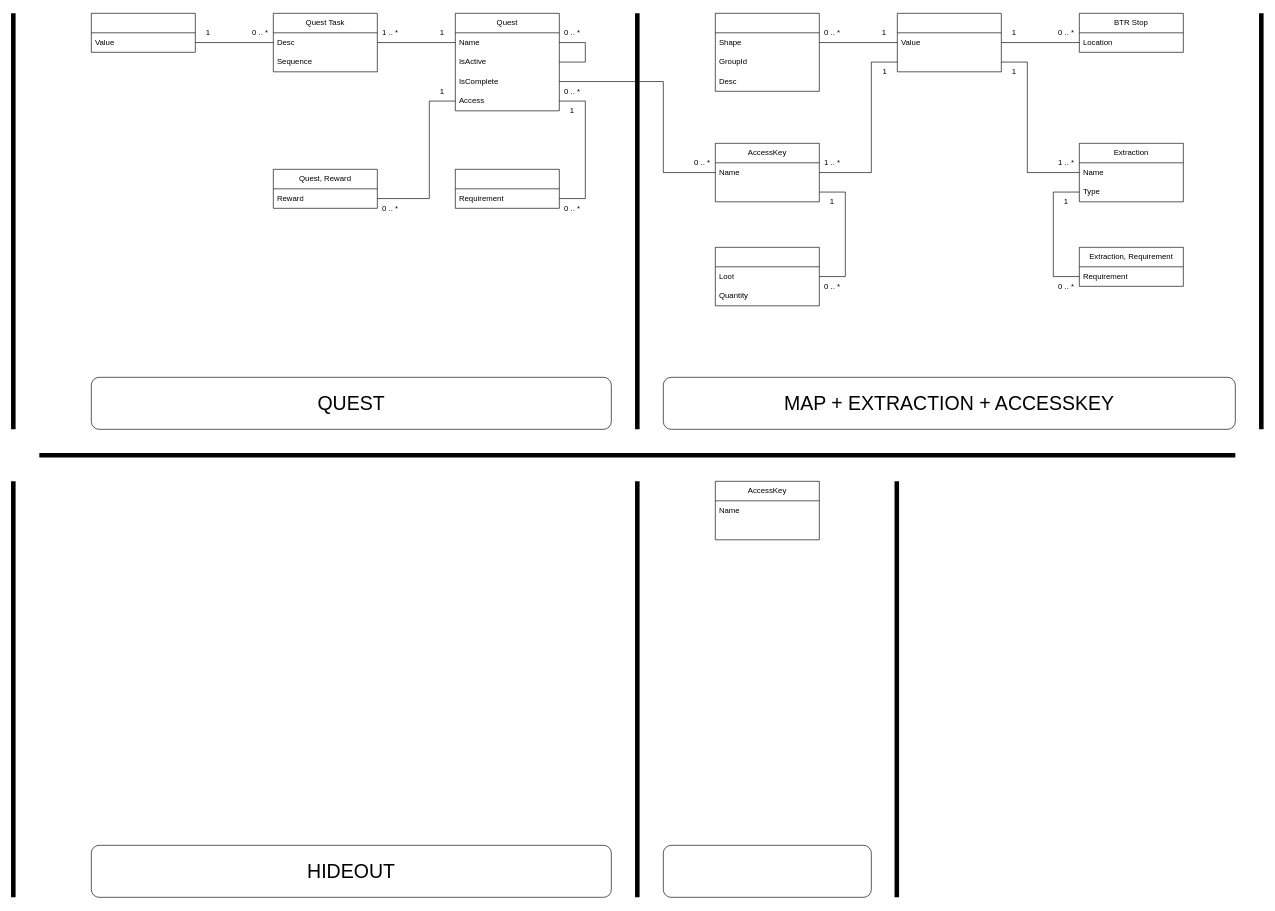
Some shapes in this 1275 by 911 pixel diagram are drawn without their labels. Here are the shapes that lost their labels. From the top down, the box of each, then its label:
(91, 13, 195, 52): Trader <Enum>
(715, 13, 819, 91): Marker
(897, 13, 1001, 72): Map <Enum>
(455, 169, 559, 208): Quest, Prerequisite
(715, 247, 819, 306): AccessKey, Loot
(663, 845, 871, 897): KEYBIND
